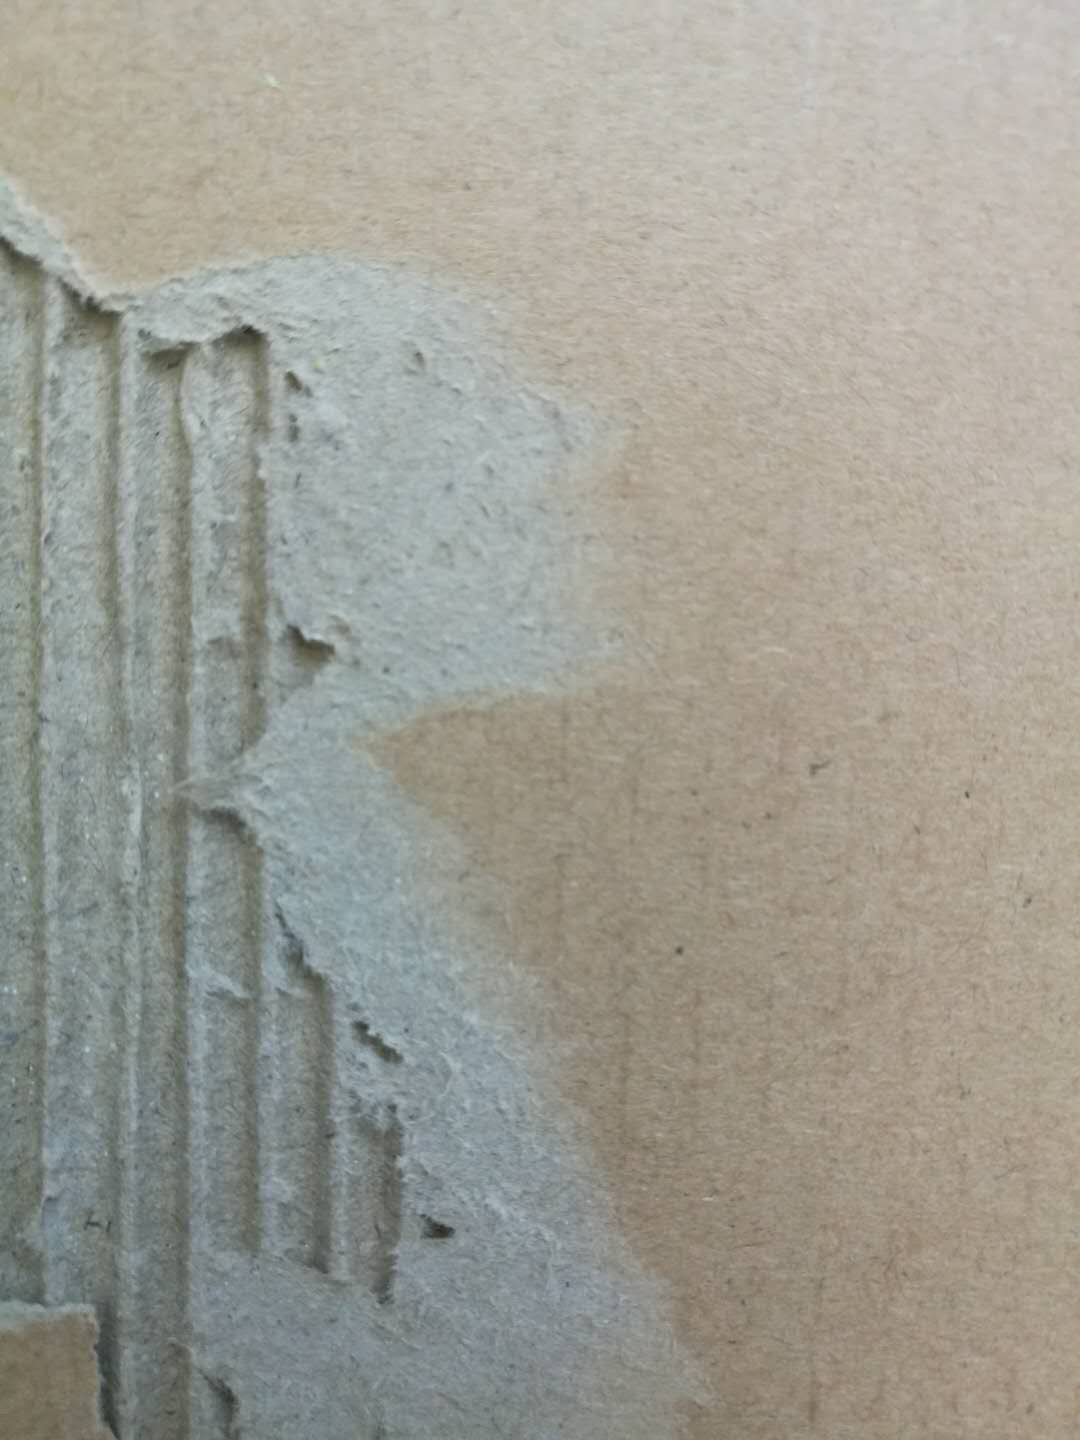defect: (1, 133, 847, 1440)
